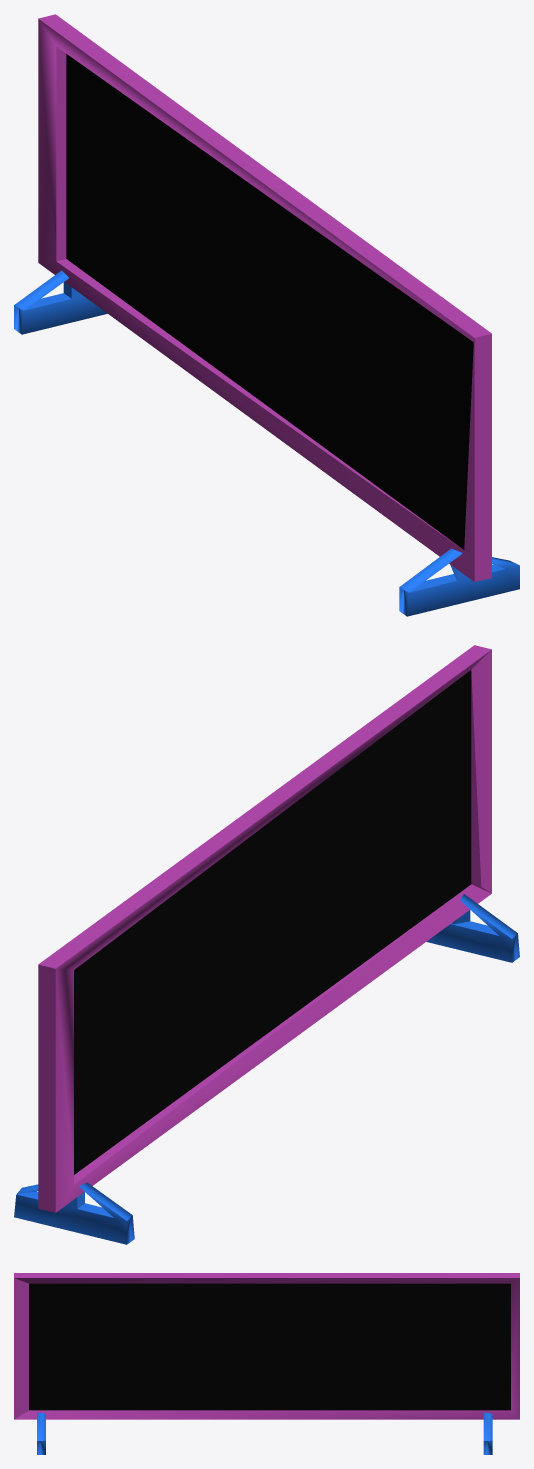
Rendered from Block Board 1.fbx.
3 views of the same model, one above another, from view 1: azimuth 30°, elevation 25°; view 2: azimuth 150°, elevation 25°; view 3: azimuth 270°, elevation 25° (orthographic). The views are drawn at different scales.
Visible parts, largest first — view 1: Stand; view 2: Stand; view 3: Stand.
Boxes of the visible parts, x1,y1,x2,y2 form: Stand: (14, 14, 519, 616); Stand: (14, 645, 519, 1244); Stand: (14, 1273, 519, 1454).
Size of the model in its own units: 277 by 660 by 1855.
